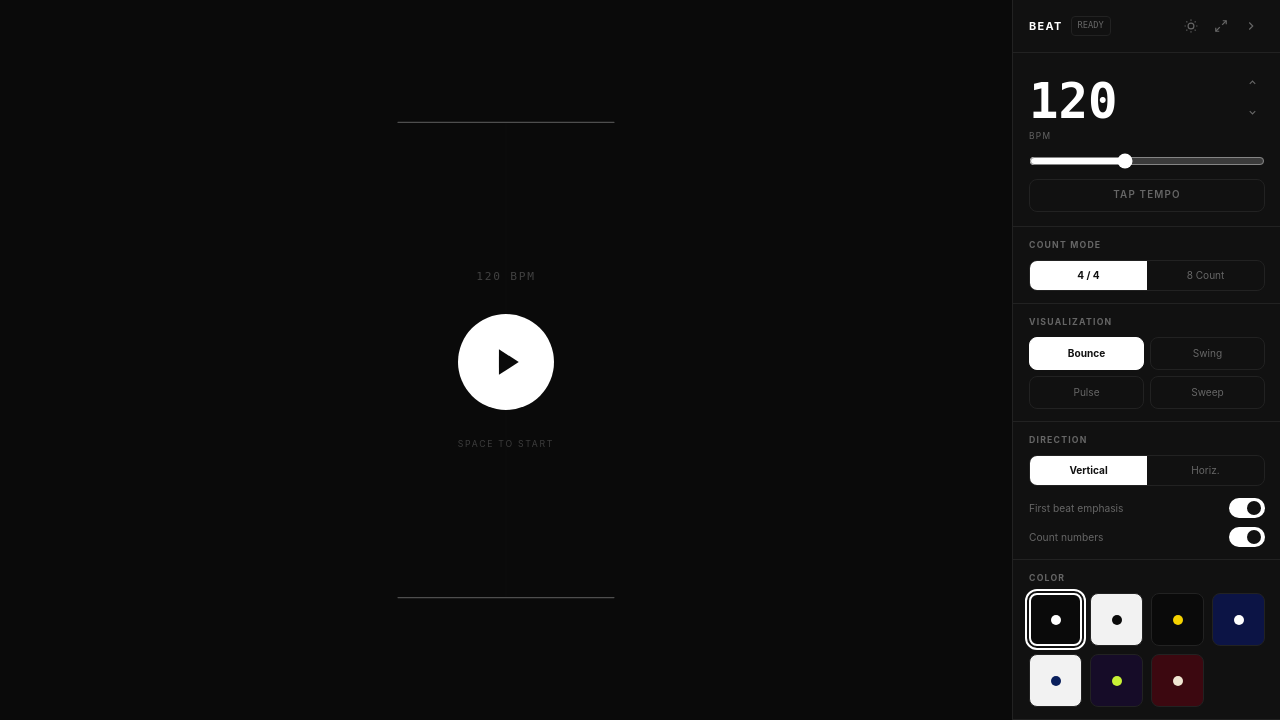
App CTA + keyboard integration › arrow keys adjust BPM, but not while the BPM input is focused
This screenshot has width=1280, height=720.
Press ArrowRight
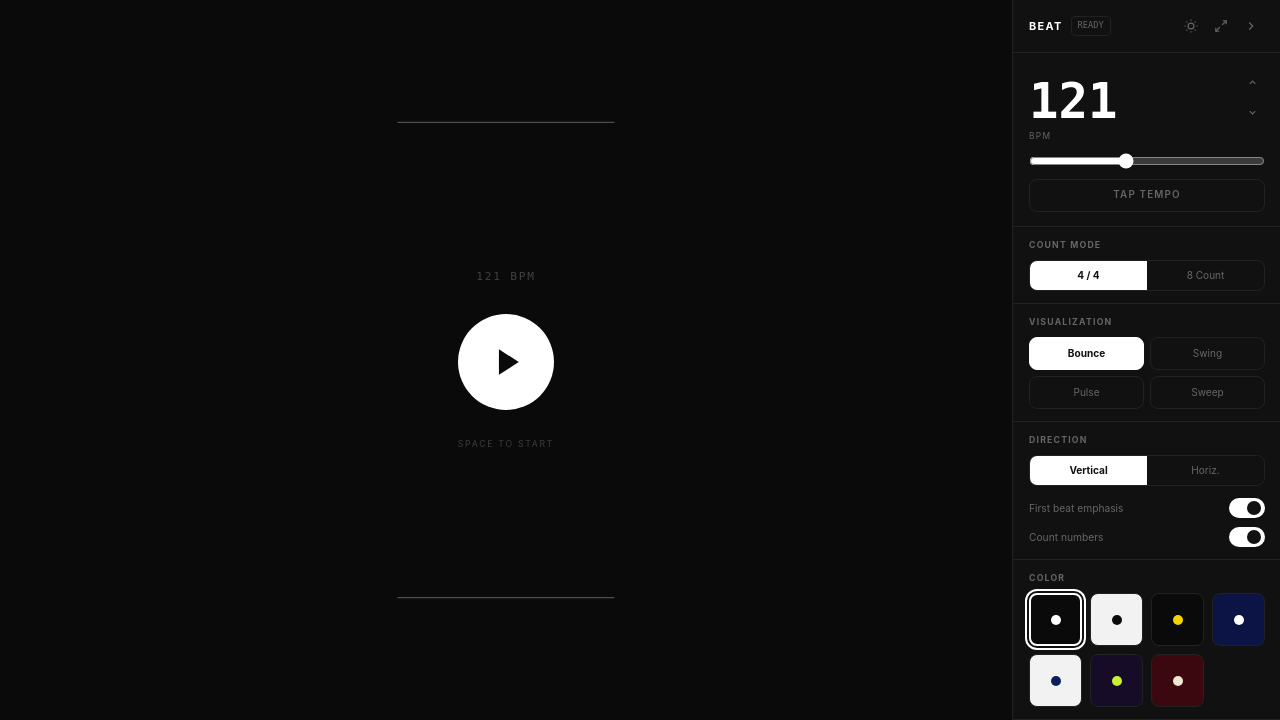
Expected: the button "121" is shown
Click the button named "Edit BPM".
click(1073, 102)  # box [1029,77,1118,126]
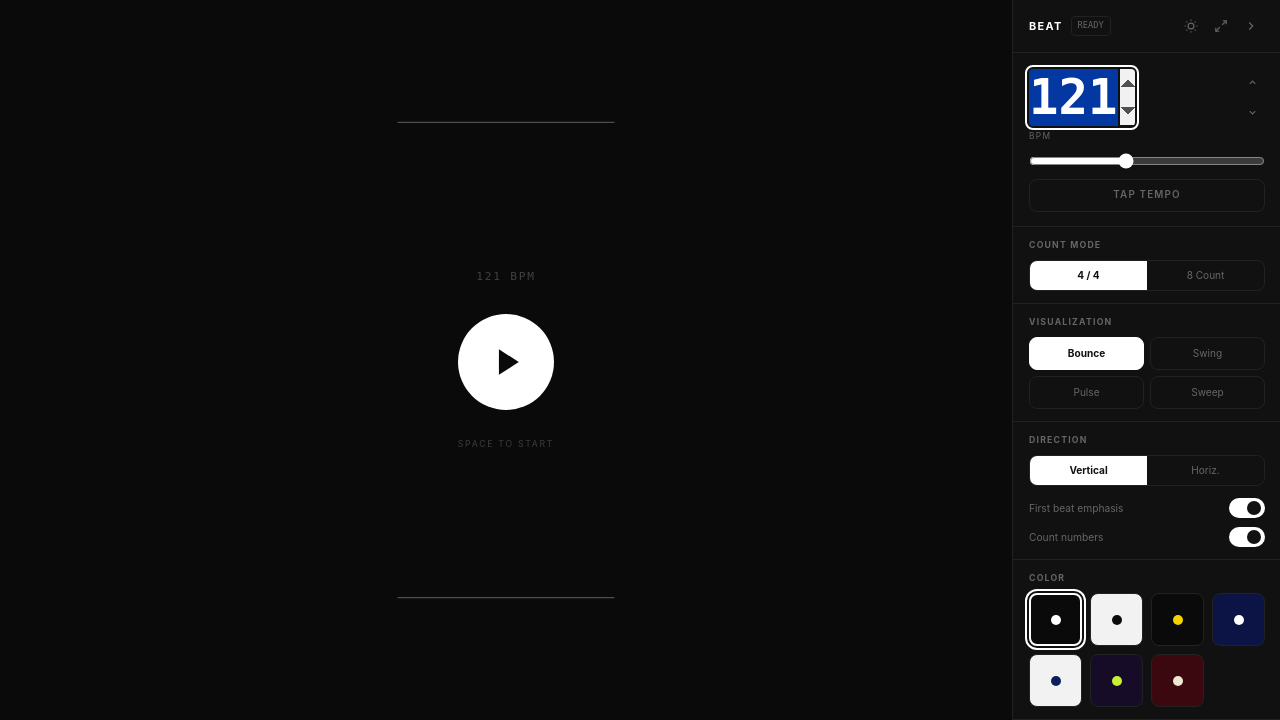
Press ArrowRight in the number field, box [1029,69,1135,126]
Press Escape in the number field, box [1029,69,1135,126]
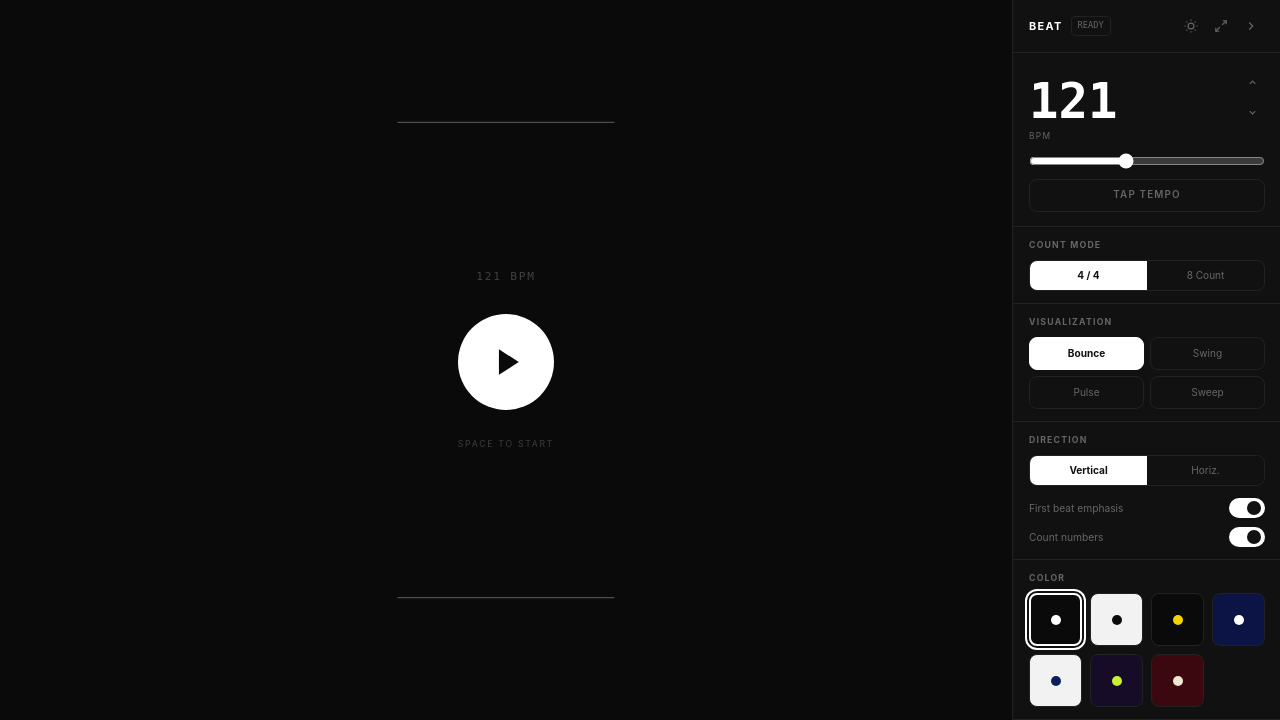
Expected: the button "121" is shown, [1029,77,1118,126]
